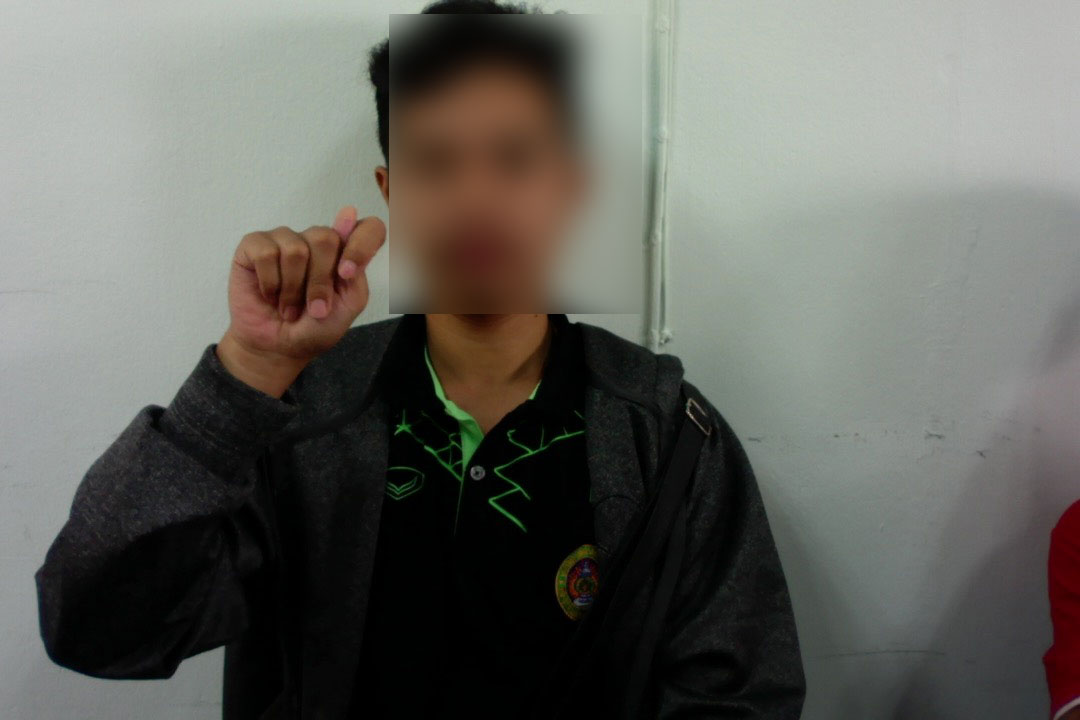tor: (218, 197, 388, 371)
